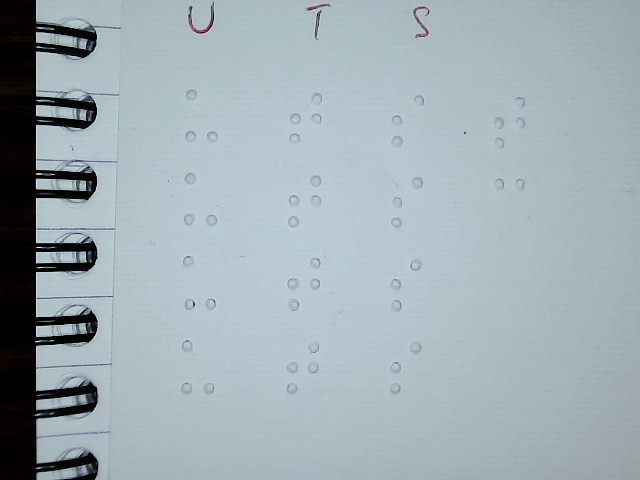S: (390, 93, 426, 149), (389, 173, 425, 229), (388, 256, 424, 312), (387, 339, 423, 395)
T: (288, 90, 324, 146), (287, 172, 323, 228), (286, 255, 322, 311), (285, 339, 321, 395)
U: (183, 87, 220, 144), (183, 170, 220, 227), (181, 254, 218, 311), (179, 338, 216, 395)
